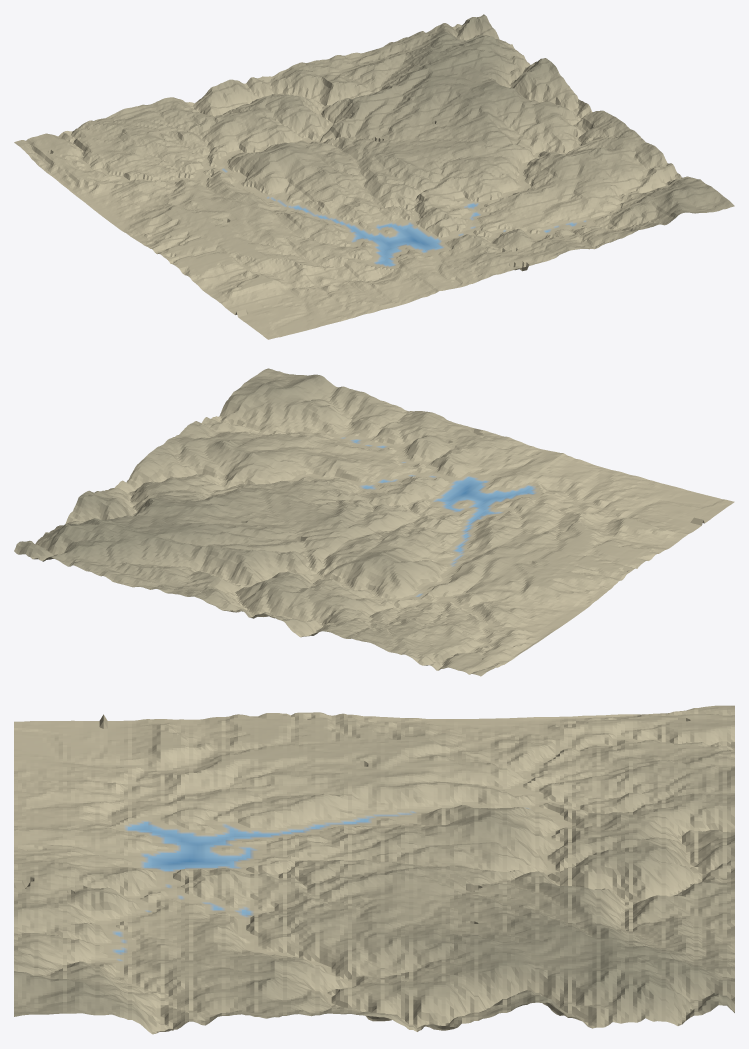
File: lake_oroville_ca.glb
3 renders of one model, top to bottom at view 1: azimuth 30°, elevation 25°; view 2: azimuth 150°, elevation 25°; view 3: azimuth 270°, elevation 25°, orthographic. The views are drawn at different scales.
Parts seen in each view (by area): view 1: terrain, water; view 2: terrain, water; view 3: terrain, water.
Boxes of the visible parts, <box> form: terrain: <box>14,14,734,339</box>; water: <box>294,204,573,265</box>; terrain: <box>14,368,734,676</box>; water: <box>354,440,533,551</box>; terrain: <box>14,705,734,1034</box>; water: <box>116,819,368,951</box>.
Bounding box in the file's own units: 26914 × 1806 × 25374.
